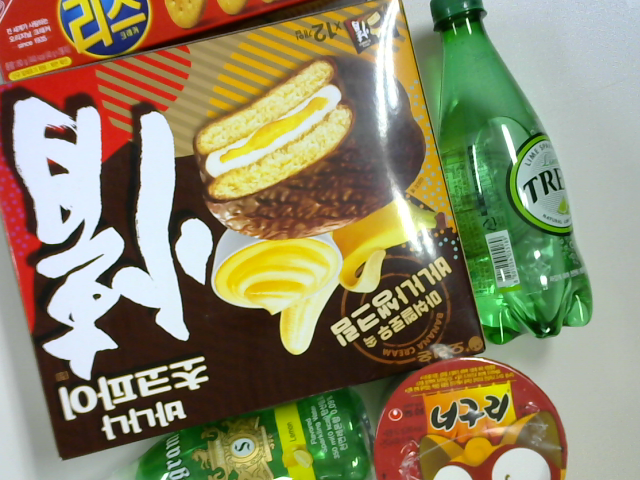Choco_Pie_Banana: (1, 2, 486, 461)
Raccoon: (366, 356, 580, 480)
Ritz_Cracker: (1, 3, 382, 87)
Seagram_Lemon_Carbonated_Water: (137, 380, 381, 480)
Treviraim_500ml: (425, 1, 593, 360)
